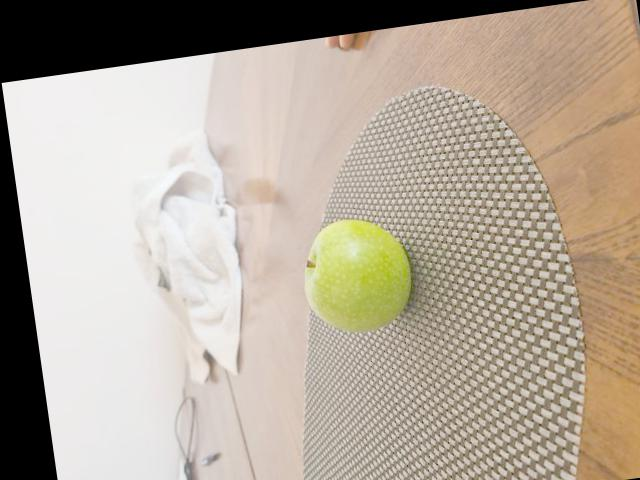apple: (292, 221, 416, 330)
